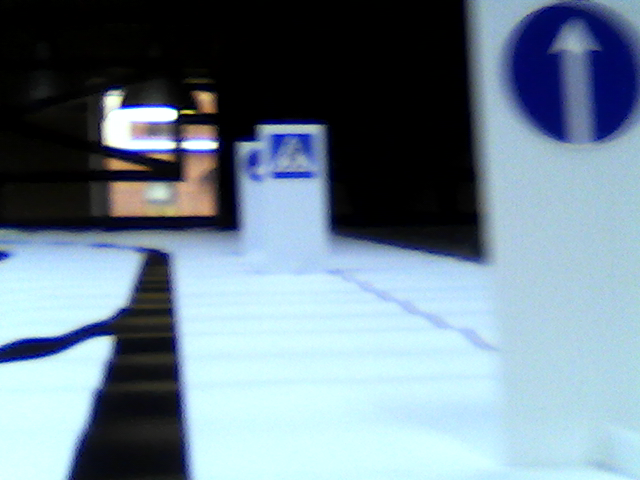forw: (504, 3, 640, 153)
pesh: (268, 129, 323, 183)
